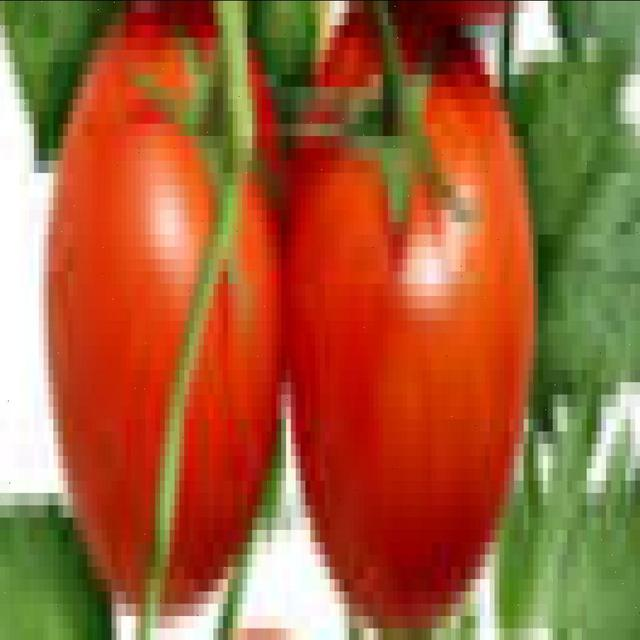Healthy Fruit: (112, 213, 282, 427)
